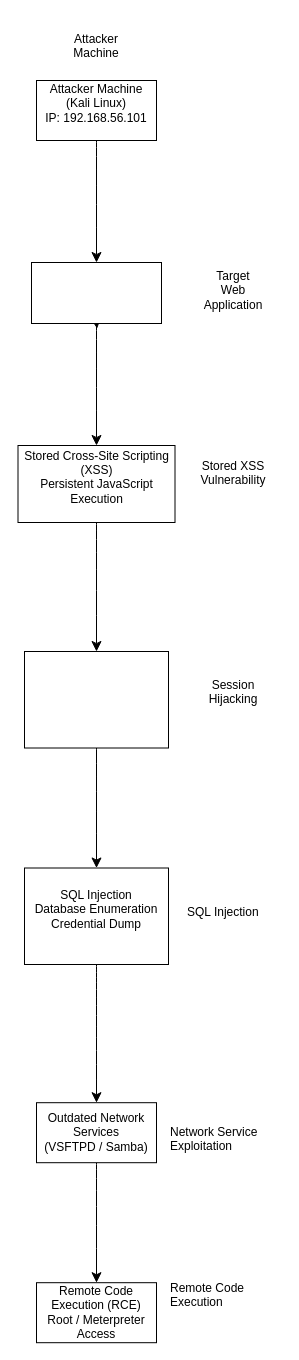
This 299x1360 diagram has some shape labels left out. The shapes that lost their labels are listed below. From the top down, each one's centre as x and y in pixels, then its label:
[96,293]: Target Web Application DVWA IP: 192.168.56.102
[96,699]: Session Hijacking Stolen Authenticated Cookie
